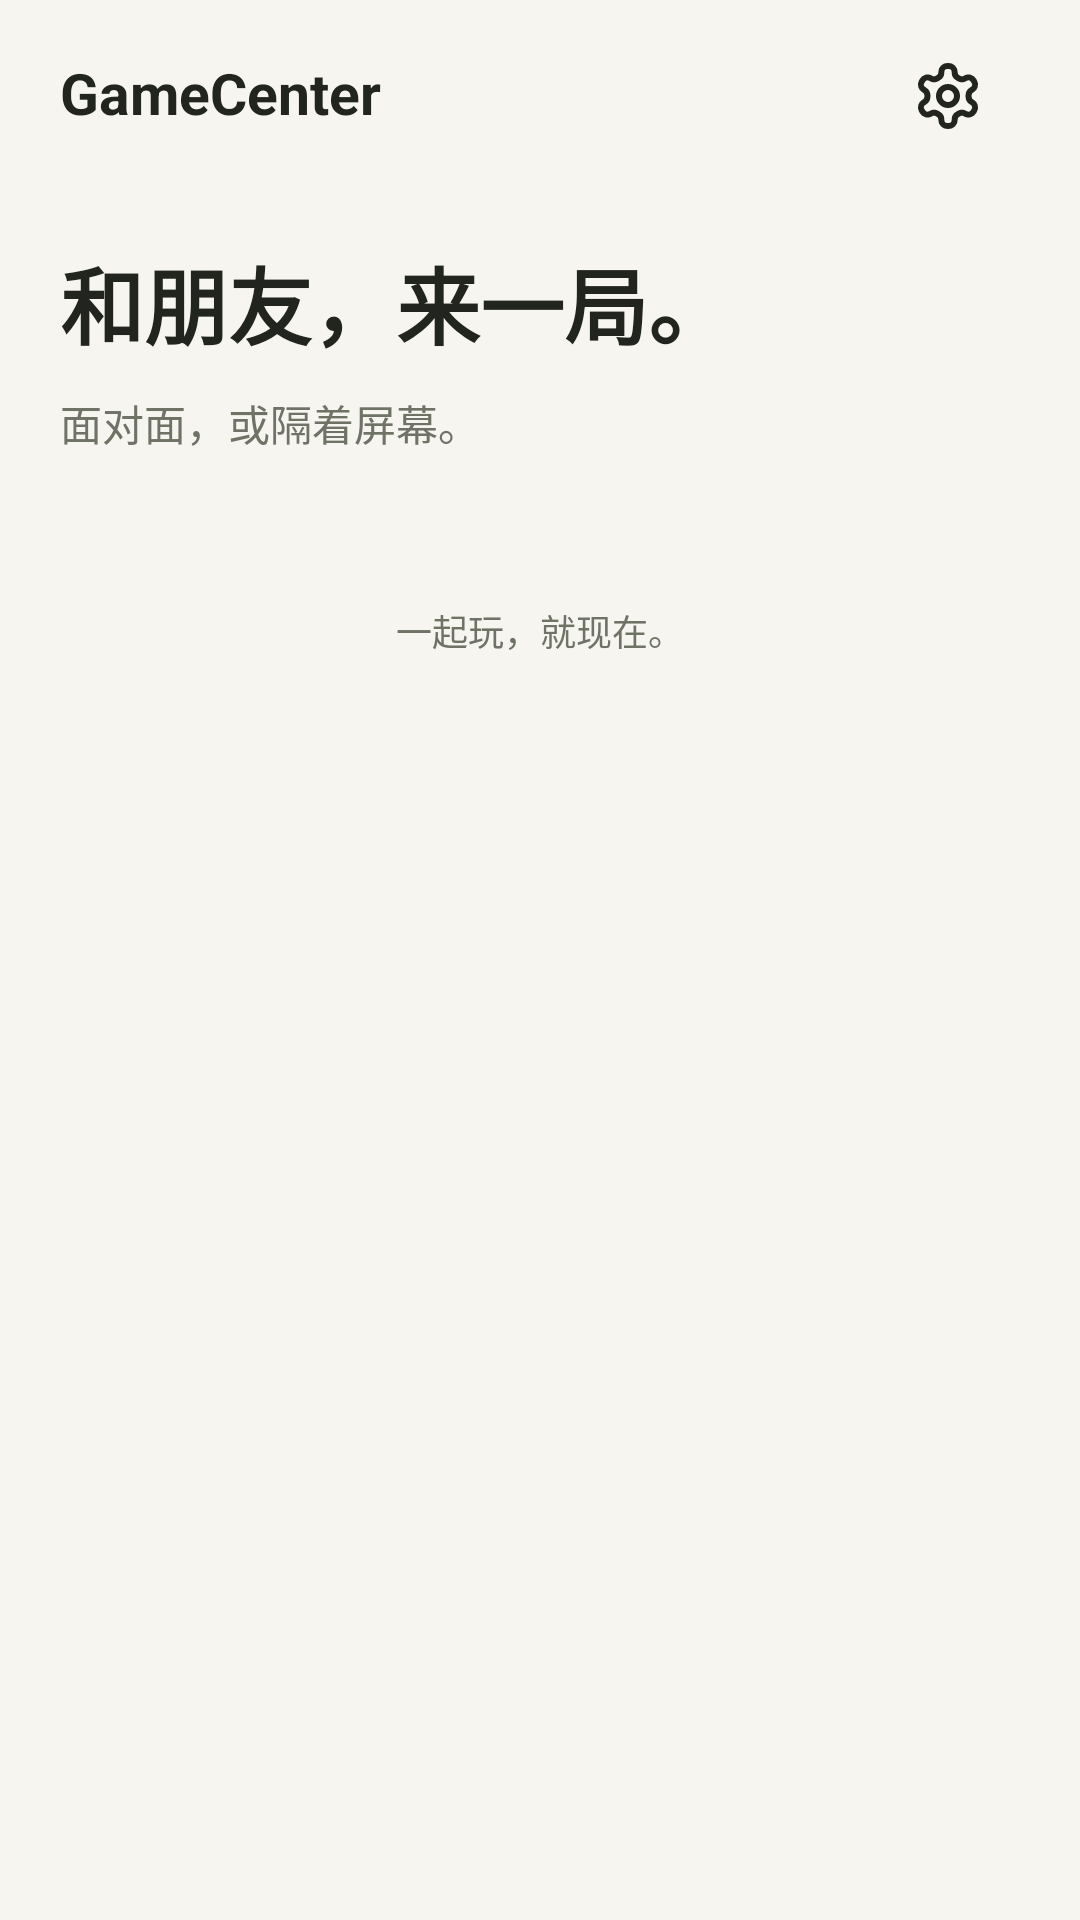

Icon click points for this 1080px x 1920px phone screenshot, format point (x, y):
设置: point (948, 96)
